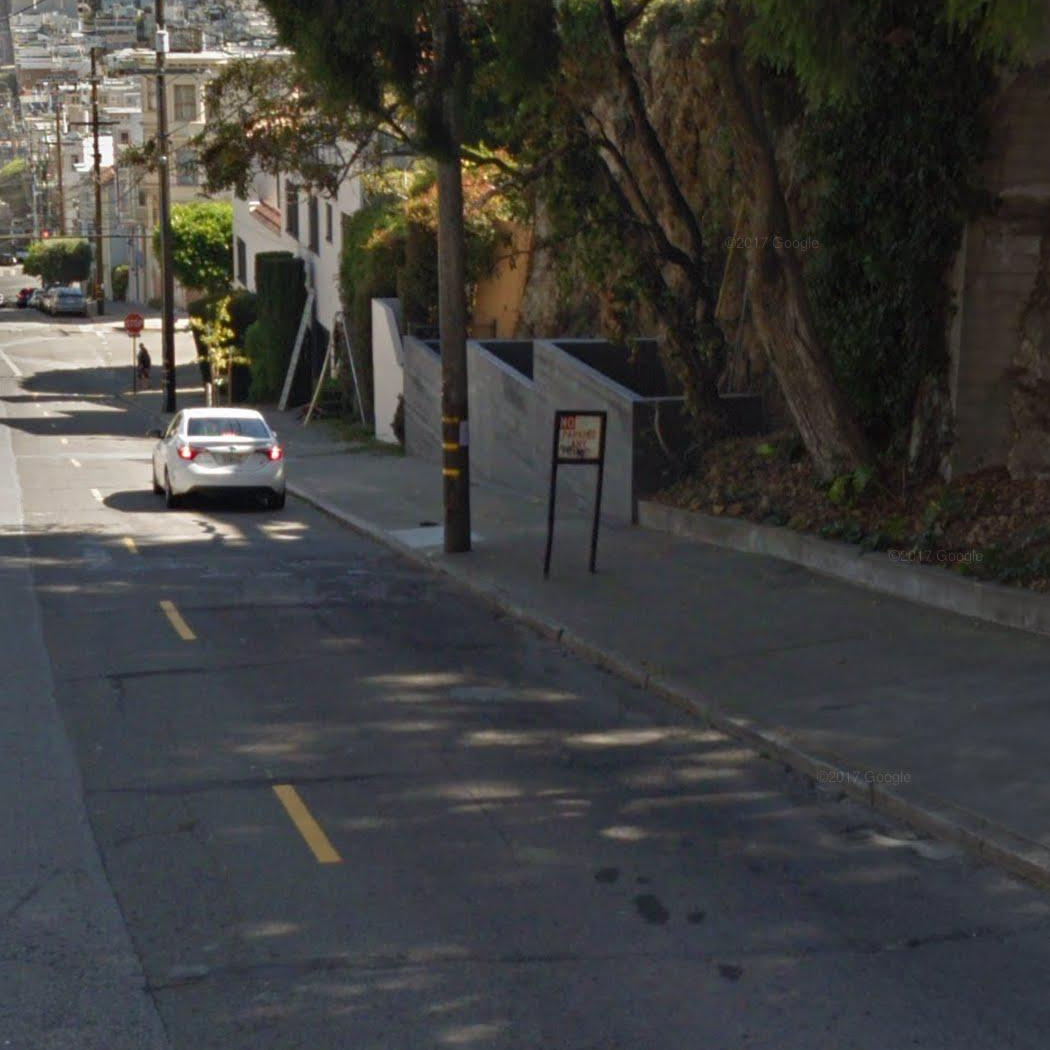No Parking Anytime: (556, 414, 604, 461)
